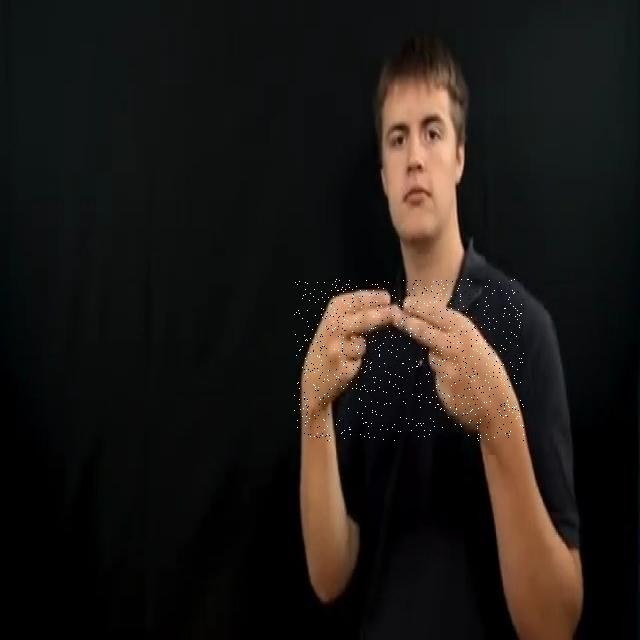eggs: (294, 279, 524, 442)
